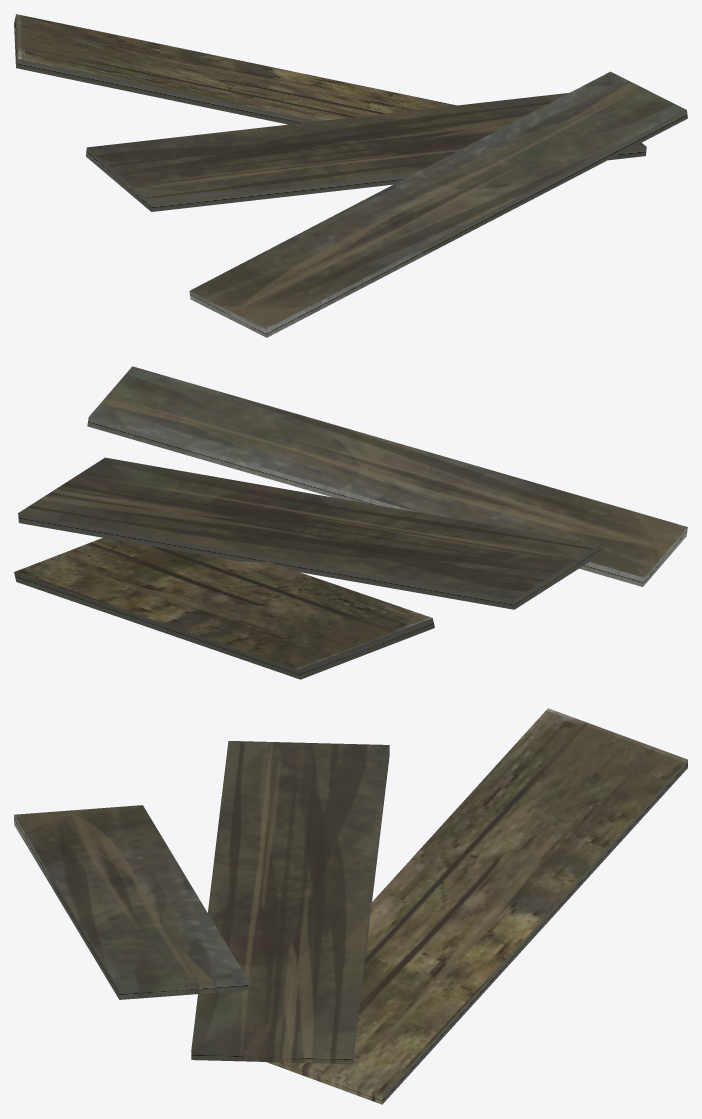
Rendered from noisy planks.fbx.
3 views of the same model, one above another, from view 1: azimuth 30°, elevation 25°; view 2: azimuth 150°, elevation 25°; view 3: azimuth 270°, elevation 25° (orthographic). The views are drawn at different scales.
Visible parts, largest first — view 1: plank 2, plank 1, plank 3; view 2: plank 1, plank 2, plank 3; view 3: plank 3, plank 1, plank 2.
Boxes of the visible parts, box(x1,y1,x2,y2) form: plank 2: box(189, 71, 687, 337); plank 1: box(86, 92, 646, 211); plank 3: box(14, 14, 456, 124); plank 1: box(18, 457, 601, 609); plank 2: box(87, 366, 687, 586); plank 3: box(14, 538, 434, 679); plank 3: box(266, 708, 687, 1104); plank 1: box(191, 741, 389, 1064); plank 2: box(14, 805, 248, 999).
Bounding box in the file's own units: 55.94 × 14.73 × 60.77.
